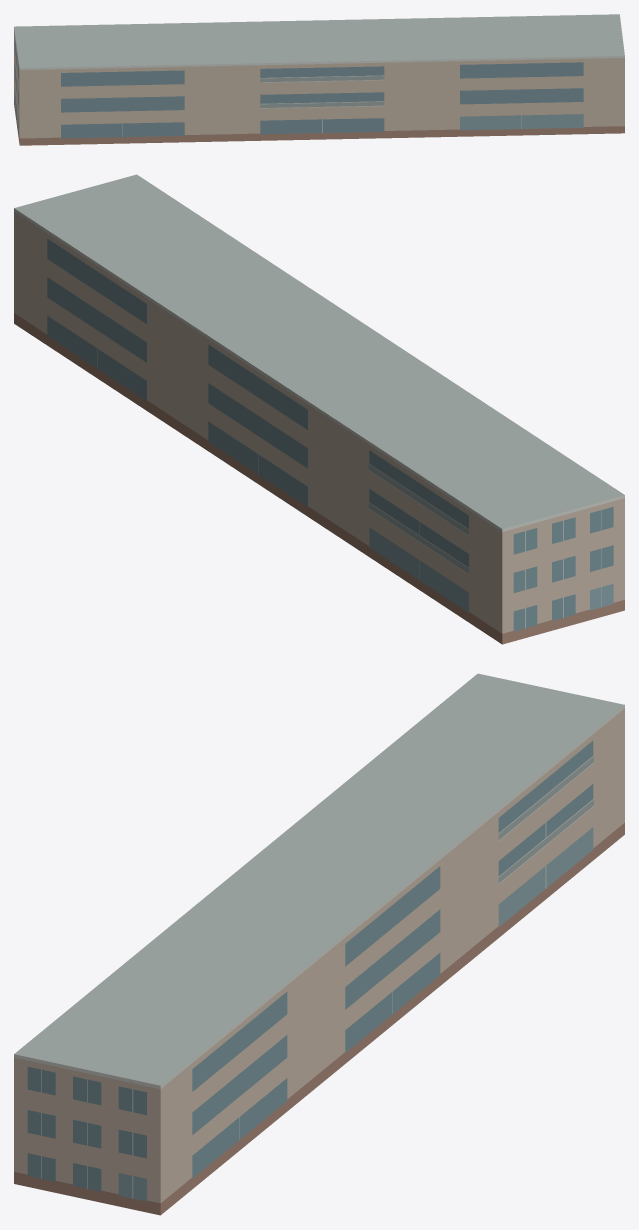
Rendered from survey-upis-32564934.glb.
3 renders of one model, top to bottom at view 1: azimuth 30°, elevation 25°; view 2: azimuth 150°, elevation 25°; view 3: azimuth 270°, elevation 25°, orthographic. The views are drawn at different scales.
Visible parts, largest first — view 1: survey-upis-32564934.tmp; view 2: survey-upis-32564934.tmp; view 3: survey-upis-32564934.tmp.
Boxes of the visible parts, bbox=[...] form: survey-upis-32564934.tmp: bbox=[14, 14, 624, 145]; survey-upis-32564934.tmp: bbox=[14, 174, 624, 644]; survey-upis-32564934.tmp: bbox=[14, 673, 624, 1215].
Bounding box in the file's own units: 62.35 × 9.15 × 39.05.
